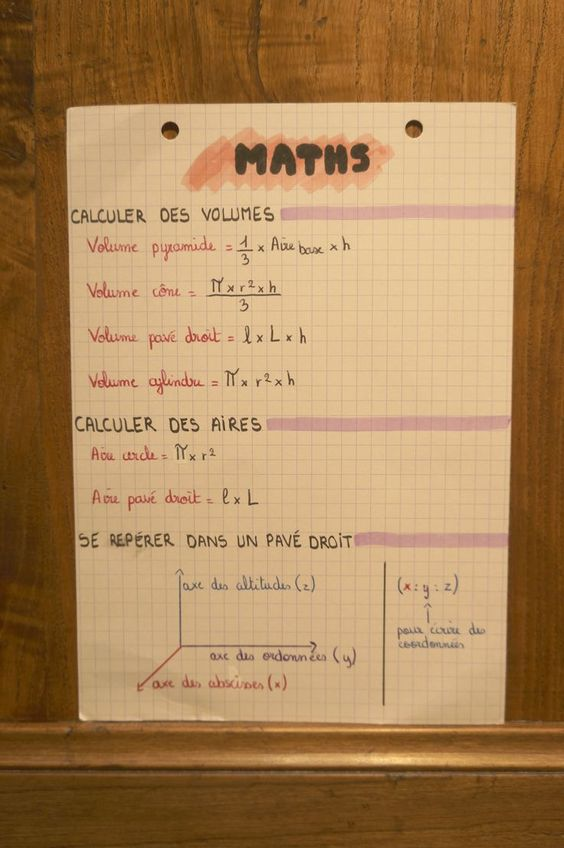page: (74, 108, 507, 721)
